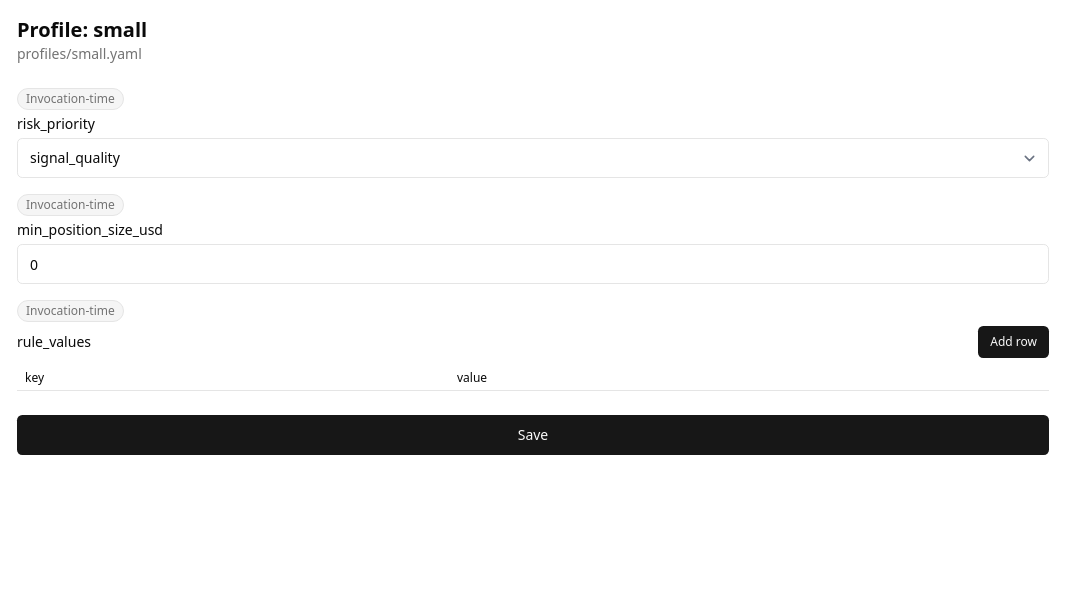
Test: ProfileEditorPage › shows transition-discipline banner after successful save
Expected: the heading "Profile: small" is shown, [17,16,147,43]
Click the button "Save".
click(533, 435)  # box [17,415,1049,455]
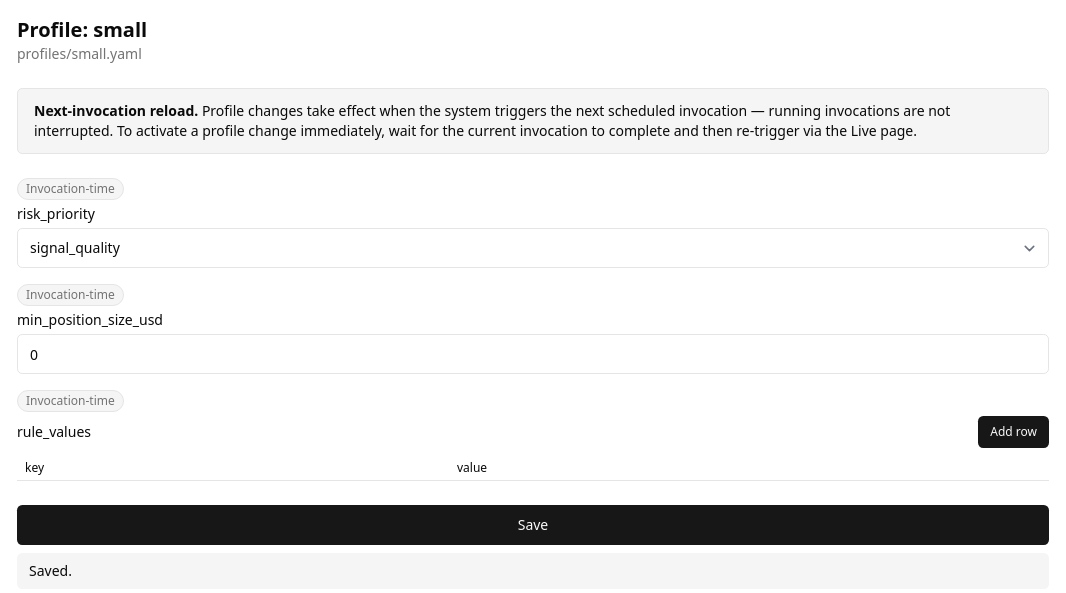
Expected: the text "Next-invocation reload." is shown, [34,101,198,120]
